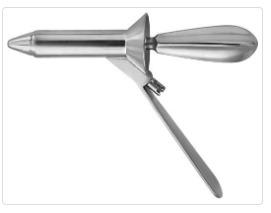Protoscope: (6, 15, 259, 199)
